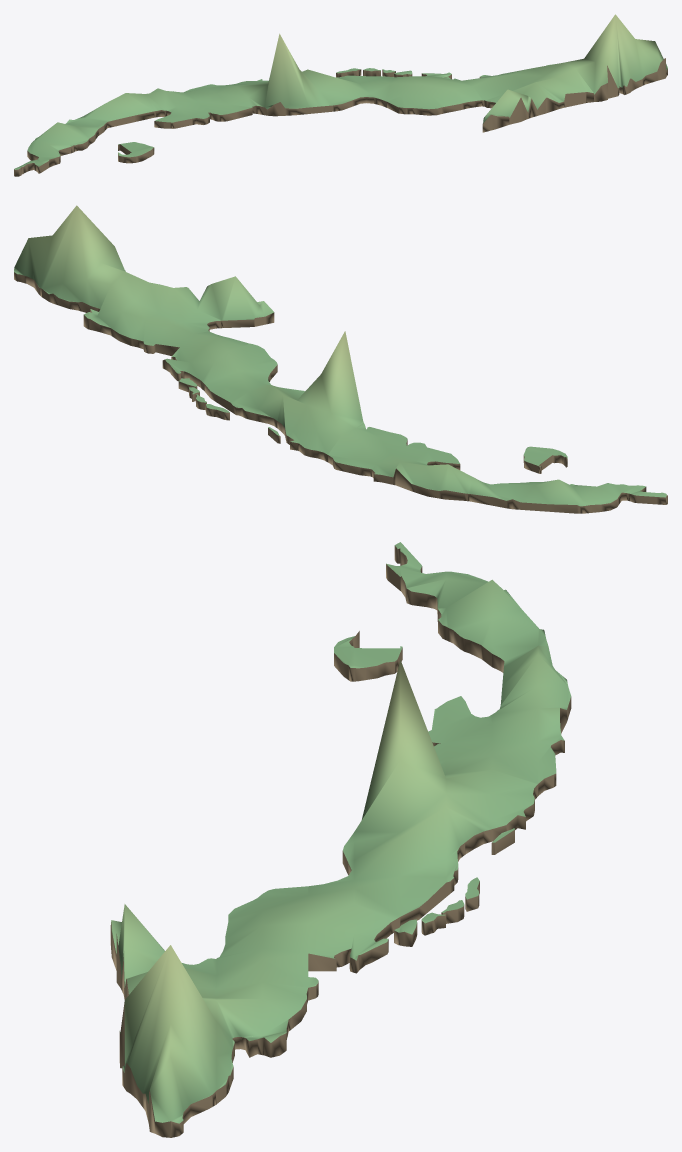
File: CUB.glb
3 views of the same model, one above another, from view 1: azimuth 30°, elevation 25°; view 2: azimuth 150°, elevation 25°; view 3: azimuth 270°, elevation 25° (orthographic). The views are drawn at different scales.
Visible parts, largest first — view 1: CUB; view 2: CUB; view 3: CUB.
Boxes of the visible parts, <box> form: CUB: <box>14,14,667,176</box>; CUB: <box>14,205,667,513</box>; CUB: <box>110,542,571,1137</box>.
Bounding box in the file's own units: 1.82 × 0.2296 × 0.6115.
